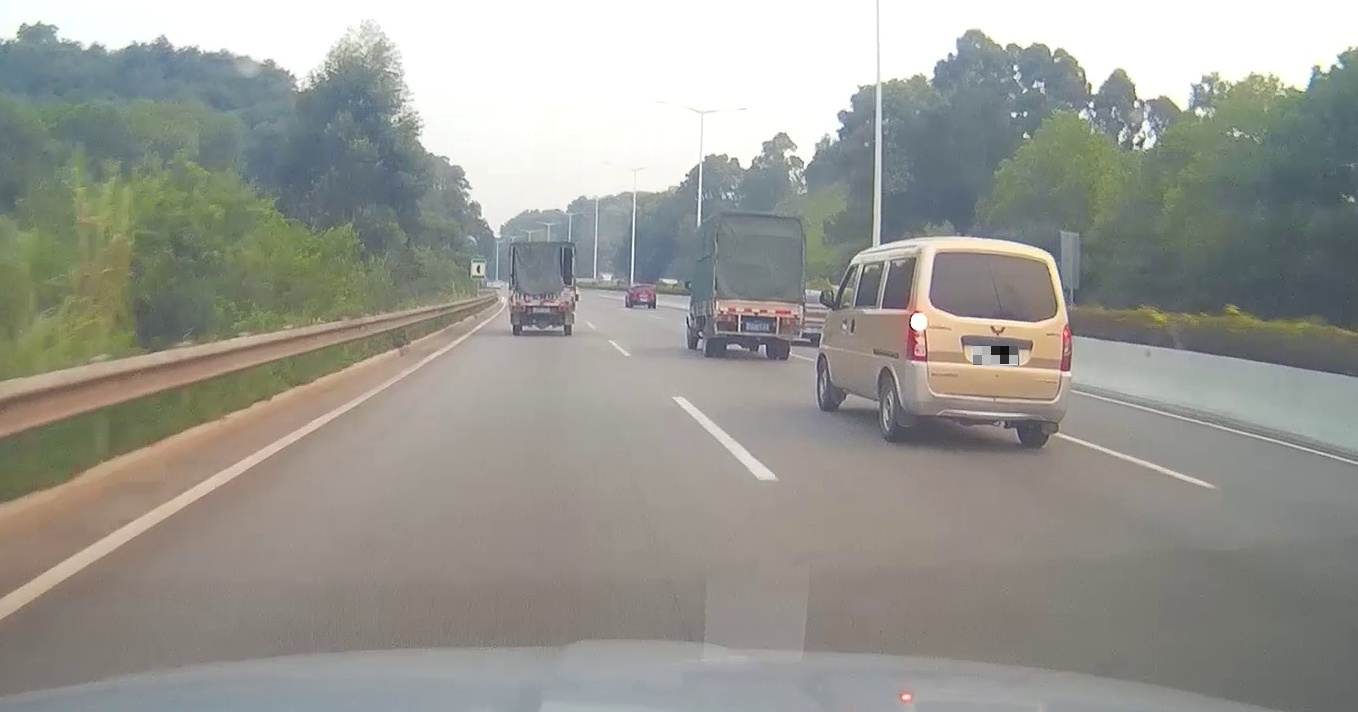L_light: (906, 310, 928, 362), (716, 315, 735, 322), (513, 305, 524, 310)
R_light: (1060, 323, 1072, 372), (782, 318, 799, 325), (561, 306, 572, 311)
T_light: (983, 253, 1012, 261), (750, 303, 766, 308), (536, 295, 549, 299)
day-left: (903, 236, 1073, 448)
day-no: (712, 209, 804, 359), (510, 241, 576, 337)
plate_1: (973, 346, 1019, 365)
